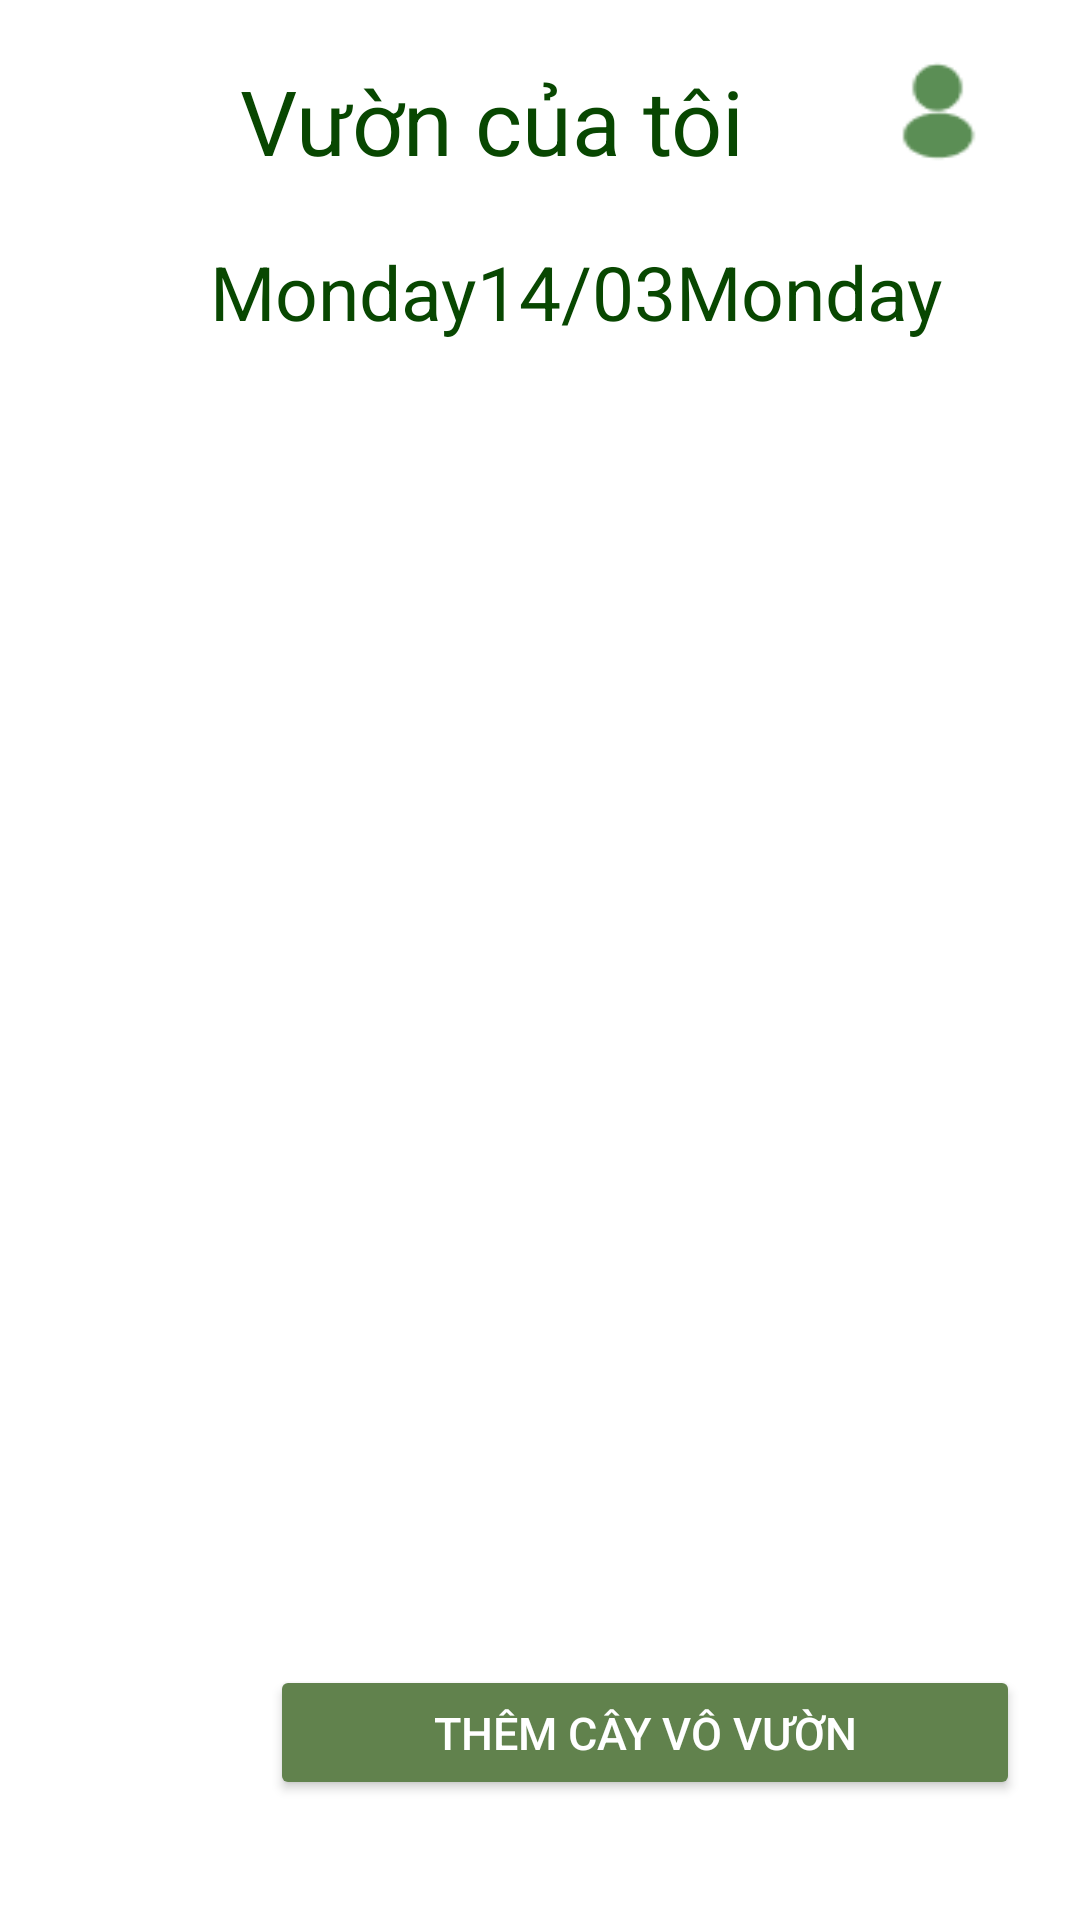

Screen size 1080px x 1920px. Icon name, then its box in pixels as (x1, y1, x2, y2):
user: (902, 64, 975, 159)
